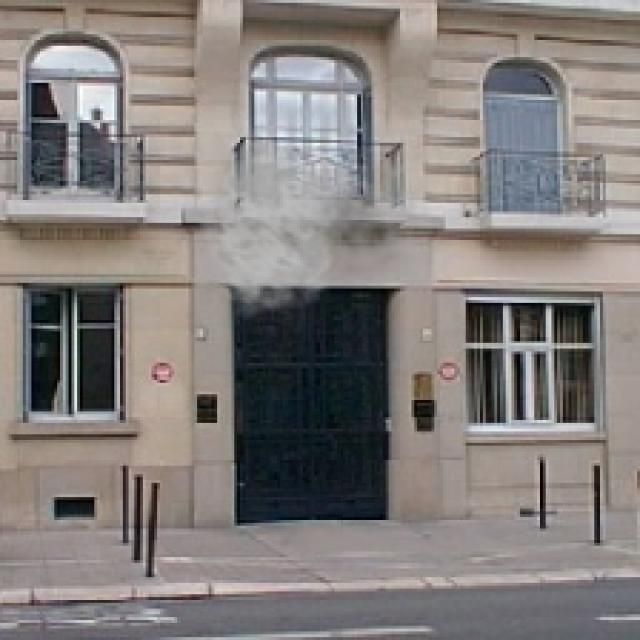Smoke: (197, 120, 434, 320)
